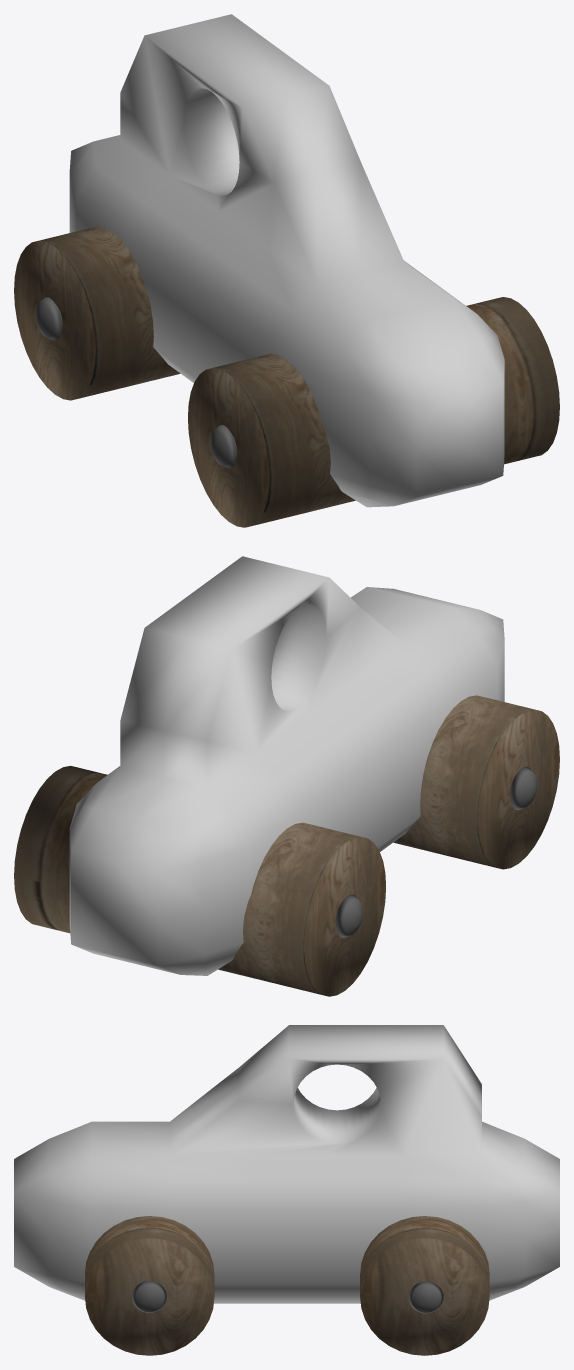
File: _ToyCar.fbx
The picture shows the model from 3 angles, top to bottom: view 1: azimuth 30°, elevation 25°; view 2: azimuth 150°, elevation 25°; view 3: azimuth 270°, elevation 25°; orthographic projection. The views are drawn at different scales.
Parts seen in each view (by area): view 1: Cube, Cube.002, Cube.001; view 2: Cube, Cube.002, Cube.001; view 3: Cube, Cube.002, Cube.001.
Boxes of the visible parts, x1=… form: Cube: x1=69, y1=14, x2=504, y2=507; Cube.002: x1=14, y1=226, x2=559, y2=527; Cube.001: x1=35, y1=297, x2=237, y2=468; Cube: x1=69, y1=556, x2=504, y2=975; Cube.002: x1=14, y1=695, x2=559, y2=996; Cube.001: x1=335, y1=766, x2=537, y2=937; Cube: x1=14, y1=1025, x2=559, y2=1303; Cube.002: x1=85, y1=1216, x2=489, y2=1355; Cube.001: x1=131, y1=1281, x2=443, y2=1313.
Size of the model in its own units: 256 by 249 by 478.
